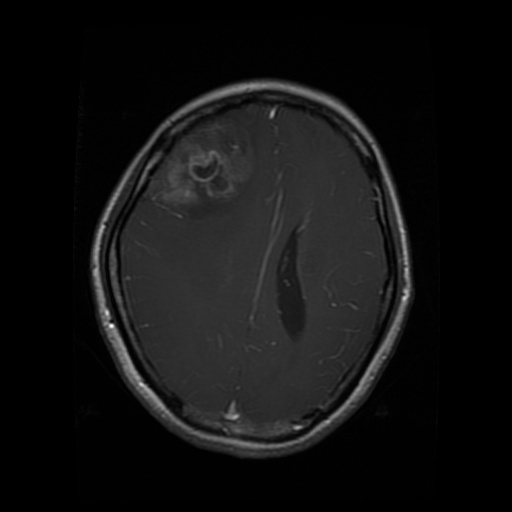glioma: (146, 113, 257, 220)
